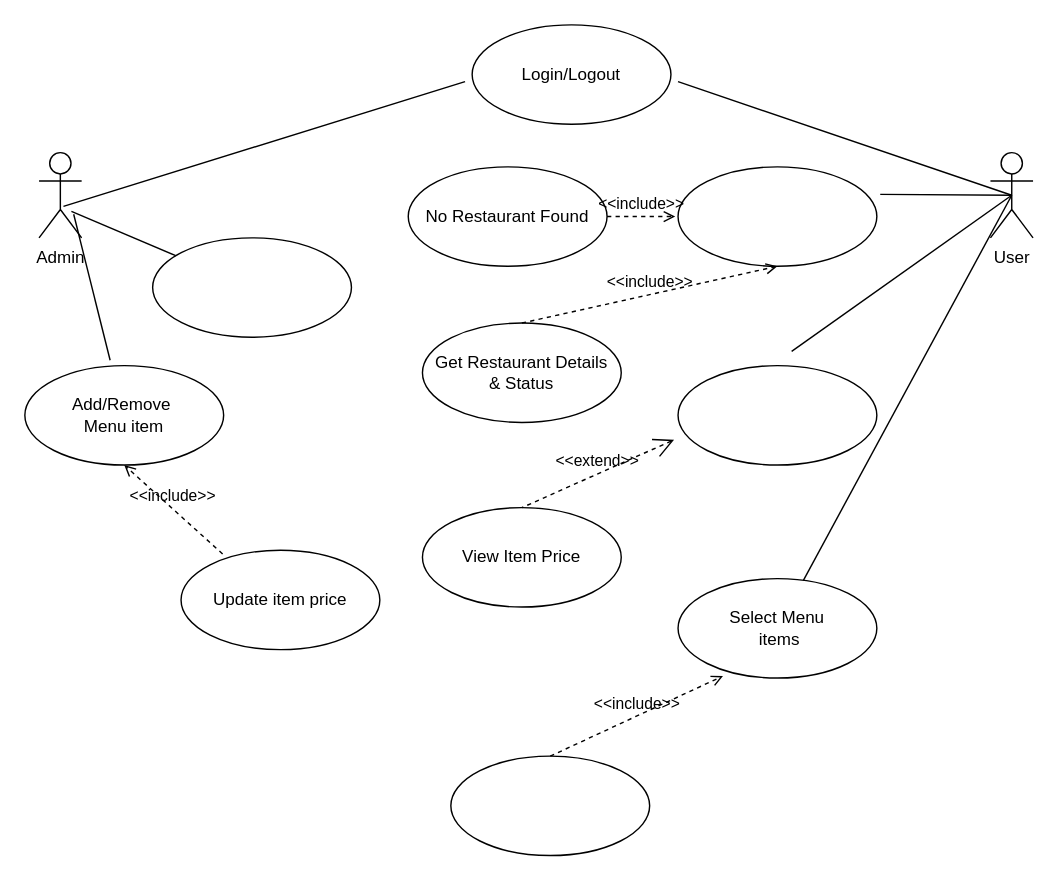
Some shapes in this 1058 by 880 pixel diagram are drawn without their labels. The shapes that lost their labels are listed below. From the top down, each one's centre as x and y in pixels, then its label:
At [777,215]: "Search Restaurant".
At [251,286]: "Add/Remove Restaurant Details".
At [777,414]: "View Menu".
At [549,805]: "View Order Cost".
